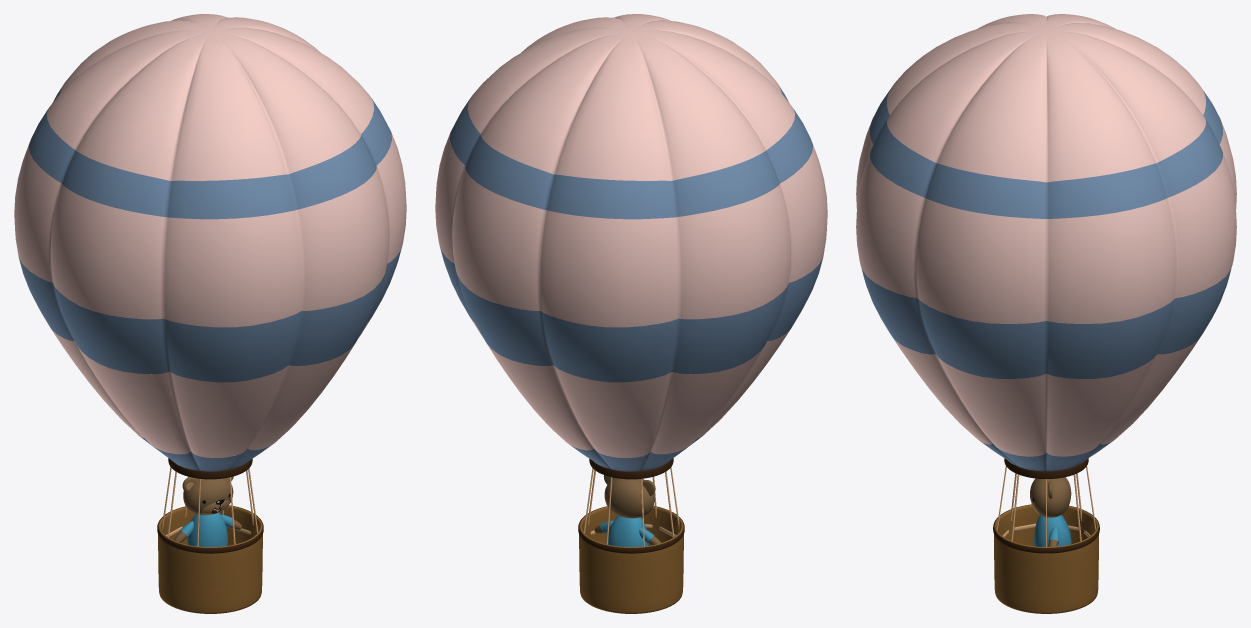
File: hotAirBalloon.glb
3 renders of one model, left to right at view 1: azimuth 30°, elevation 25°; view 2: azimuth 150°, elevation 25°; view 3: azimuth 270°, elevation 25°, orthographic.
Visible parts, largest first — view 1: Balloon, Circle, daste.rast.001, Circle.001, Circle.002, Circle.003; view 2: Balloon, Circle, daste.rast.001, Circle.001, Circle.002, Circle.003; view 3: Balloon, Circle, daste.rast.001, Circle.001, Circle.002, Circle.003.
Part boxes in pixels (x1,y1,x2,y2): Balloon: [14, 14, 406, 471]; Circle: [158, 505, 262, 613]; daste.rast.001: [174, 476, 241, 547]; Circle.001: [162, 467, 258, 546]; Circle.002: [157, 505, 263, 553]; Circle.003: [168, 458, 252, 479]; Balloon: [435, 14, 827, 471]; Circle: [579, 506, 683, 613]; daste.rast.001: [594, 475, 660, 547]; Circle.001: [583, 467, 679, 546]; Circle.002: [578, 506, 684, 553]; Circle.003: [589, 458, 673, 479]; Balloon: [856, 14, 1236, 471]; Circle: [994, 504, 1098, 613]; daste.rast.001: [1030, 477, 1071, 546]; Circle.001: [997, 466, 1095, 546]; Circle.002: [993, 504, 1099, 553]; Circle.003: [1004, 458, 1088, 478].
Bounding box in the file's own units: 2.06 × 3.35 × 2.06.
